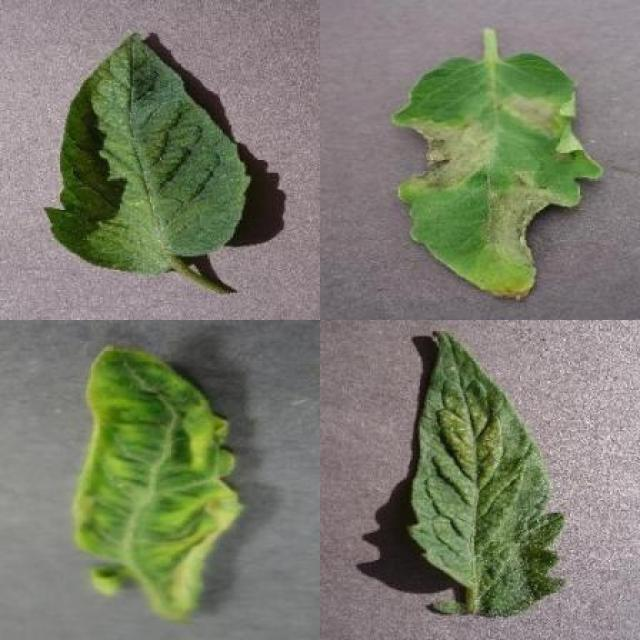Late Blight: (395, 46, 602, 304)
Spider Mites: (44, 32, 252, 274), (409, 328, 564, 615)
Yellow Leaf Curl Virus: (75, 344, 245, 622)
